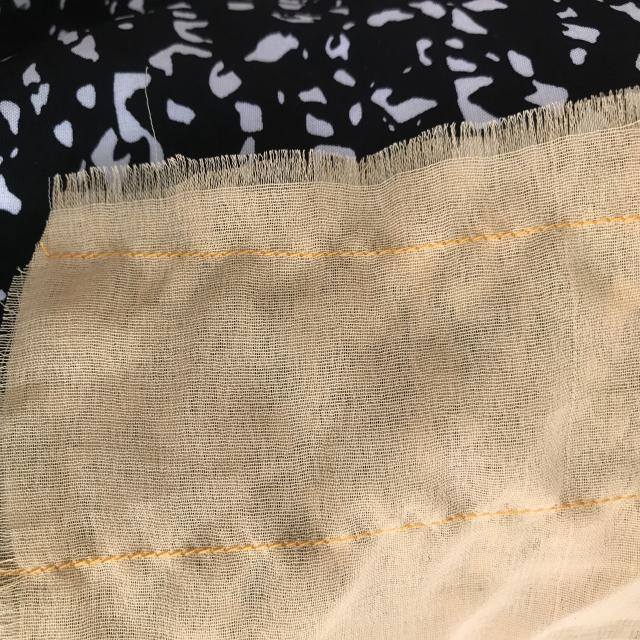good: (193, 236, 301, 271), (58, 244, 173, 272), (153, 538, 284, 559), (334, 243, 404, 262), (463, 228, 518, 248)
